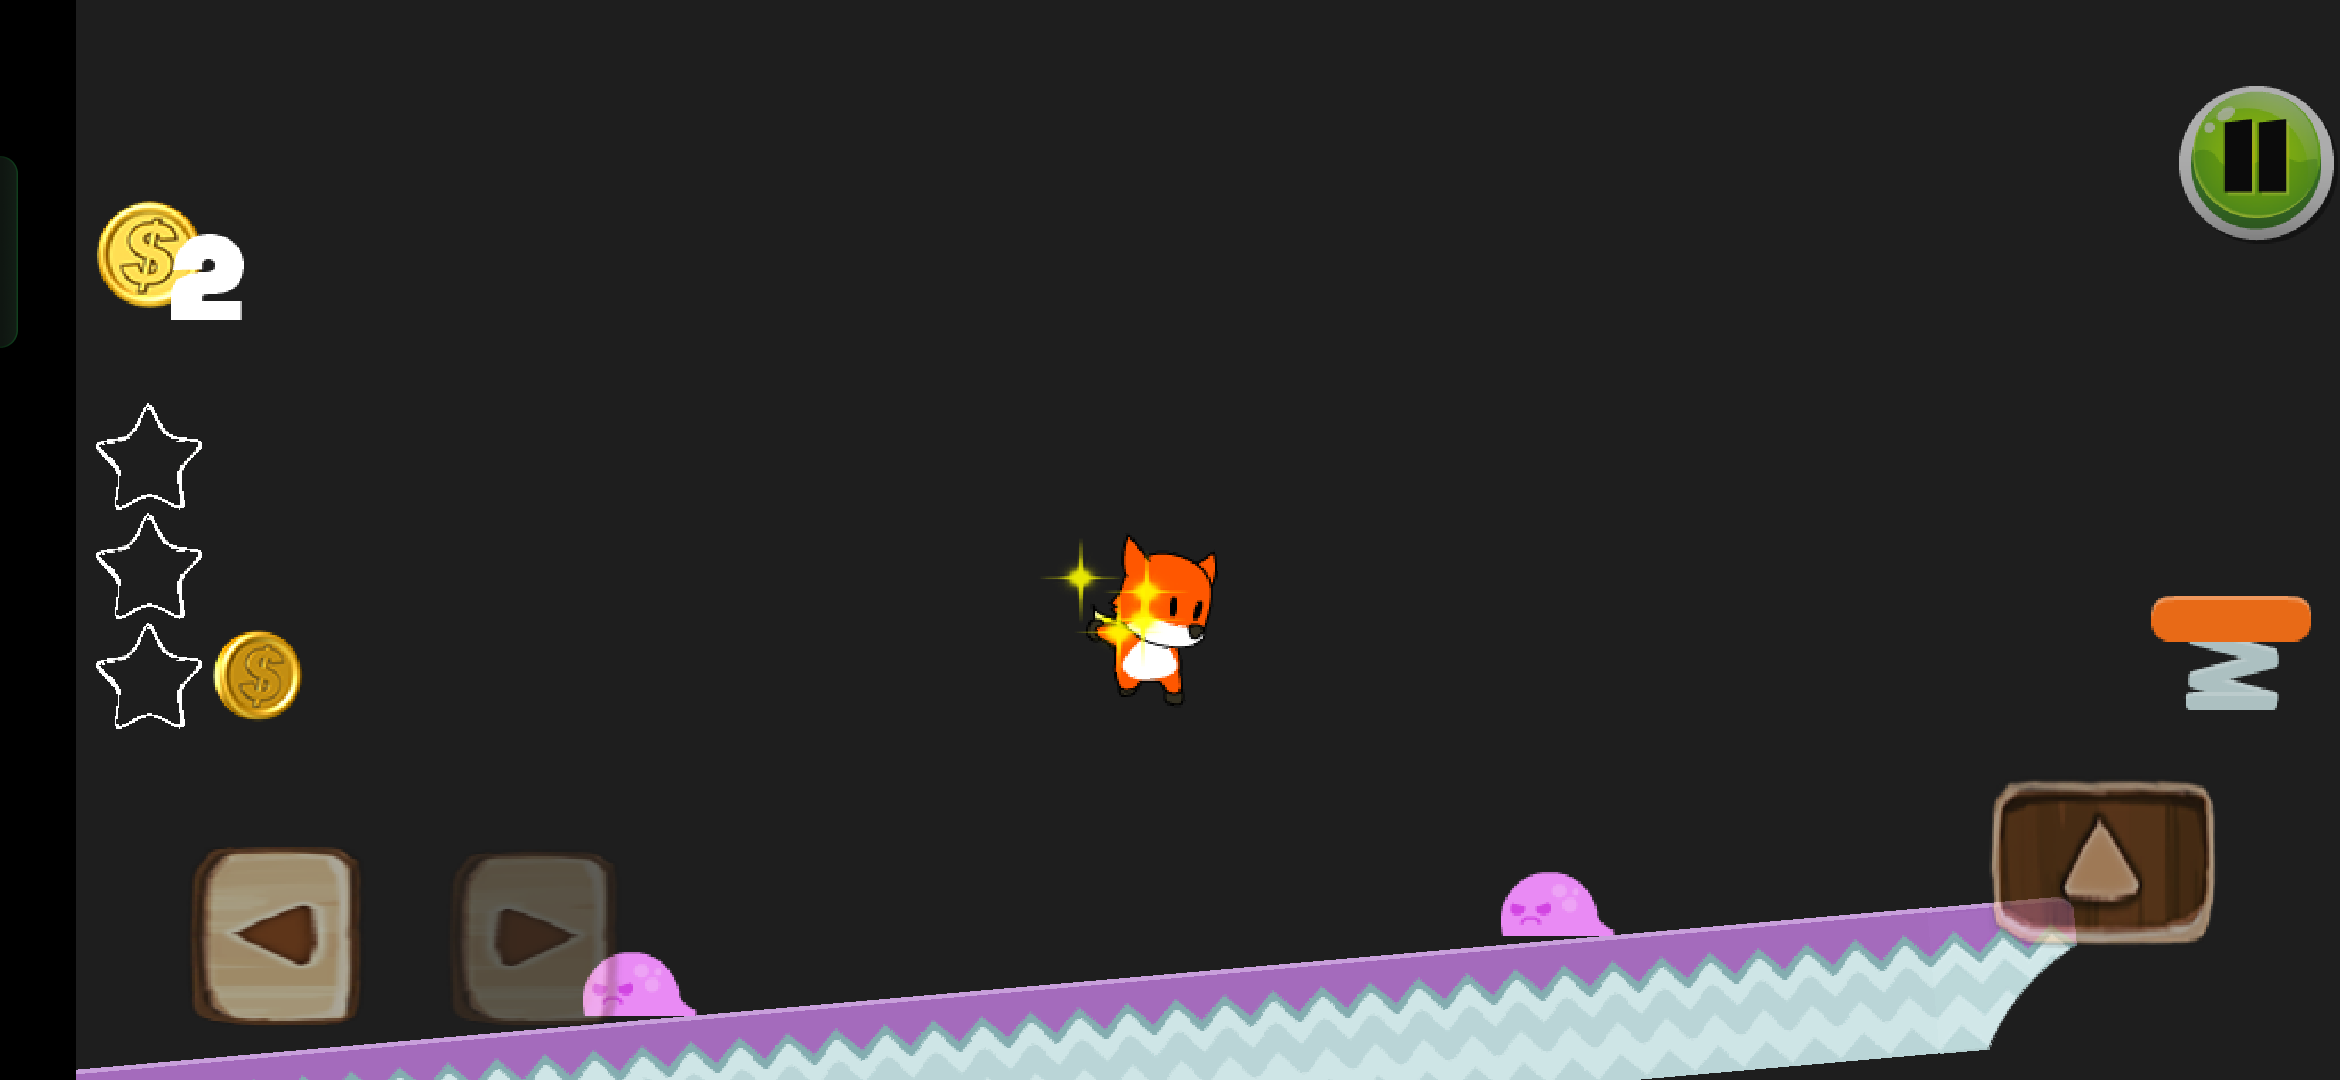Enemy: (1086, 536, 1219, 706), (1500, 871, 1618, 937), (582, 952, 697, 1019)
